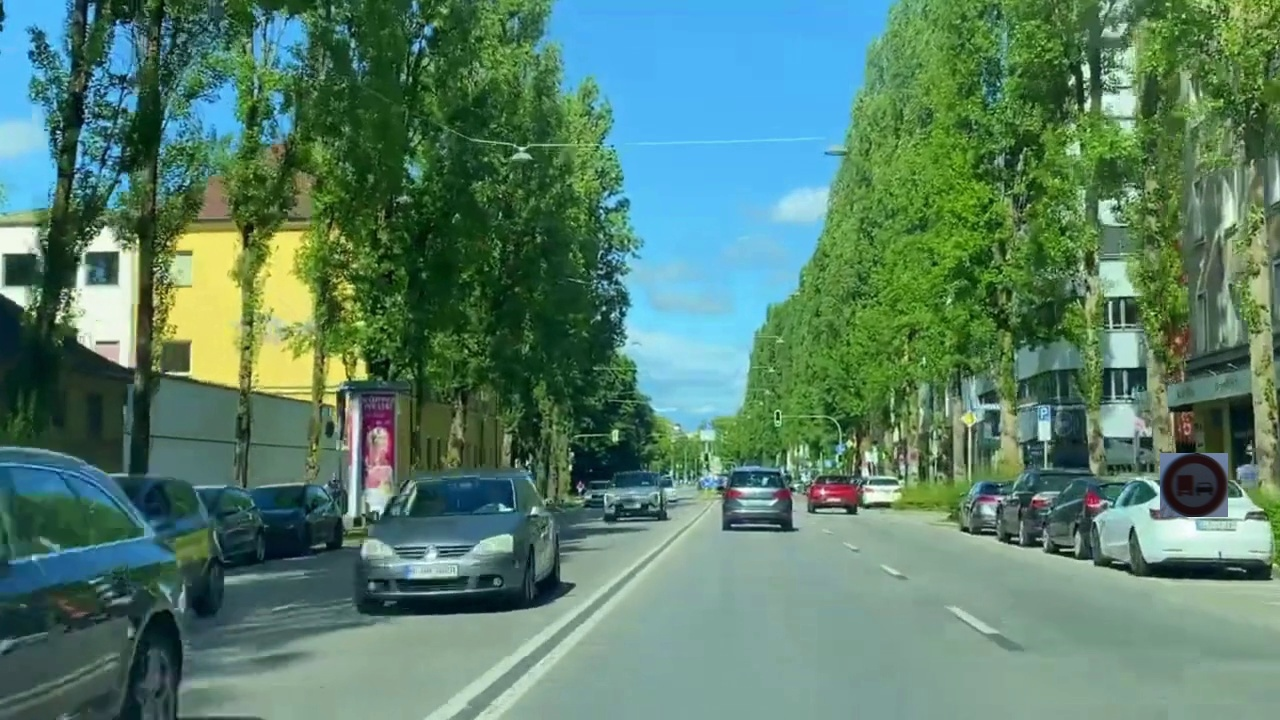No pass >3.5t: (1160, 453, 1228, 517)
